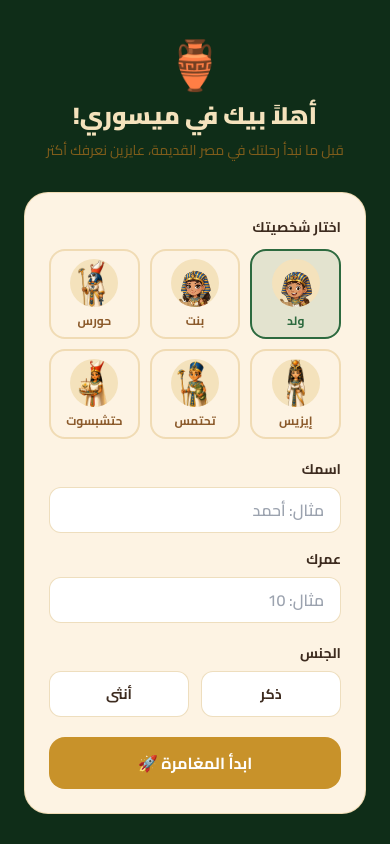
Test case: App - بوابة تسجيل الدخول › ينتقل للصفحة الرئيسية تلقائياً بعد إكمال Onboarding
Expected: the heading "أهلاً بيك في ميسوري!" is shown, [73,93,317,138]
Type "يوسف" into the field with placeholder "مثال: أحمد" at (195, 510), box [49,487,341,533]
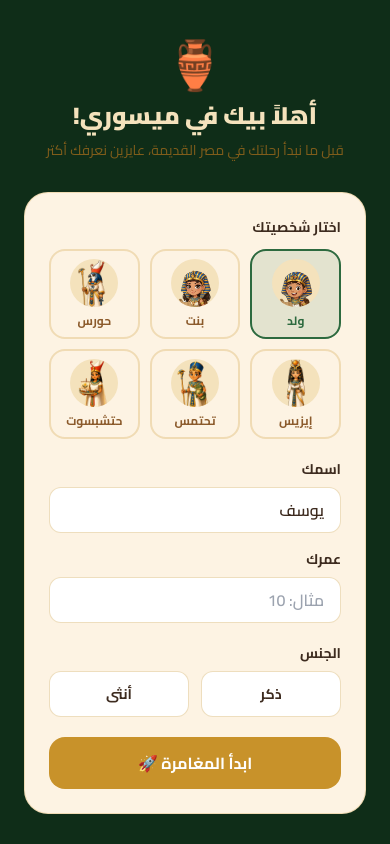
Type "11" into the number field with placeholder "مثال: 10" at (195, 600), box [49,577,341,623]
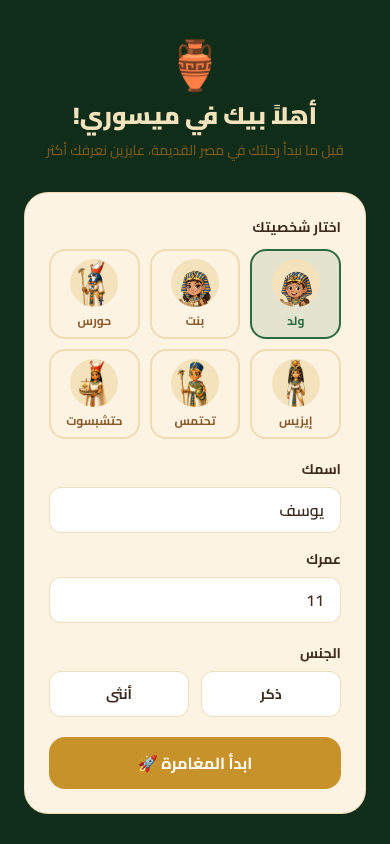
Click the button "ذكر" at (271, 694), box [201,671,341,717]
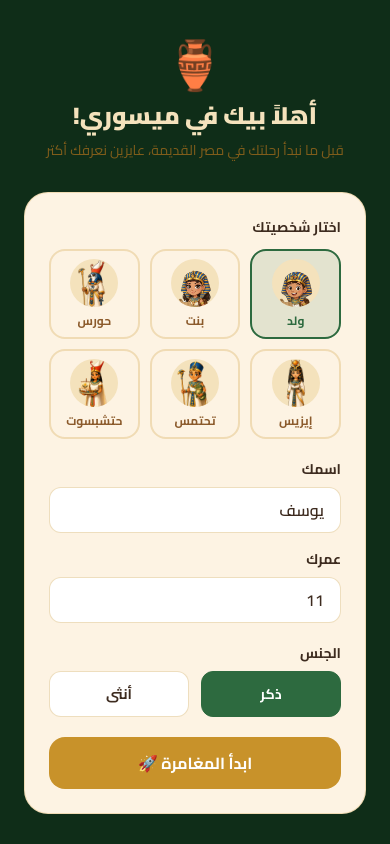
Click the button "ابدأ المغامرة 🚀" at (195, 763), box [49,737,341,789]
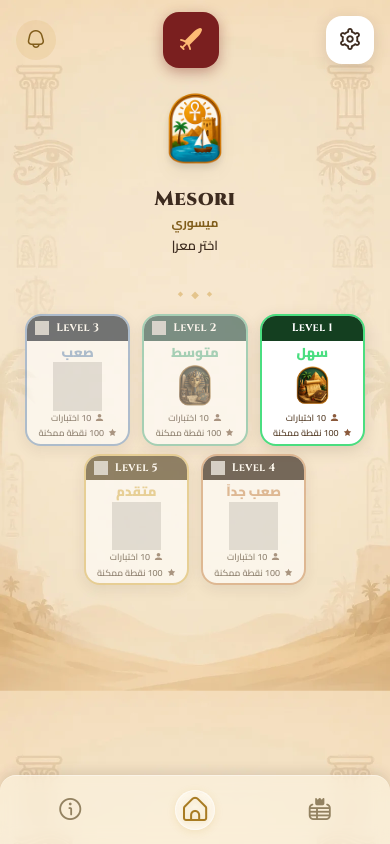
Expected: the heading "أهلاً بيك في ميسوري!" is gone
